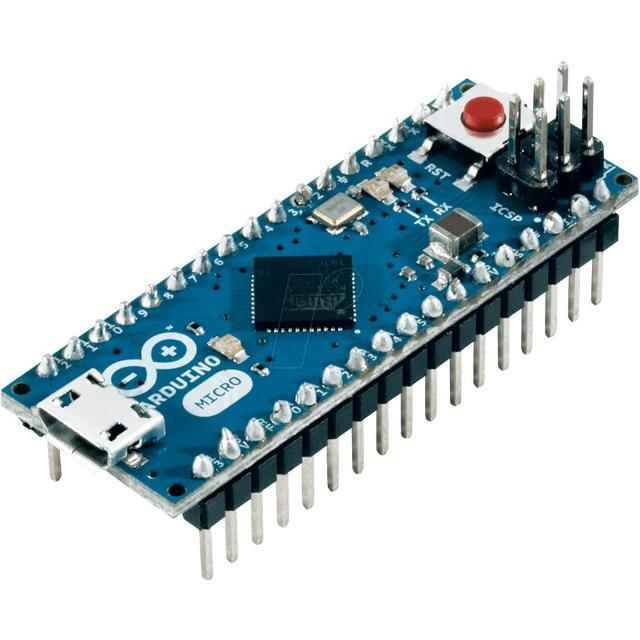Arduino-Micro: (3, 66, 639, 578)
